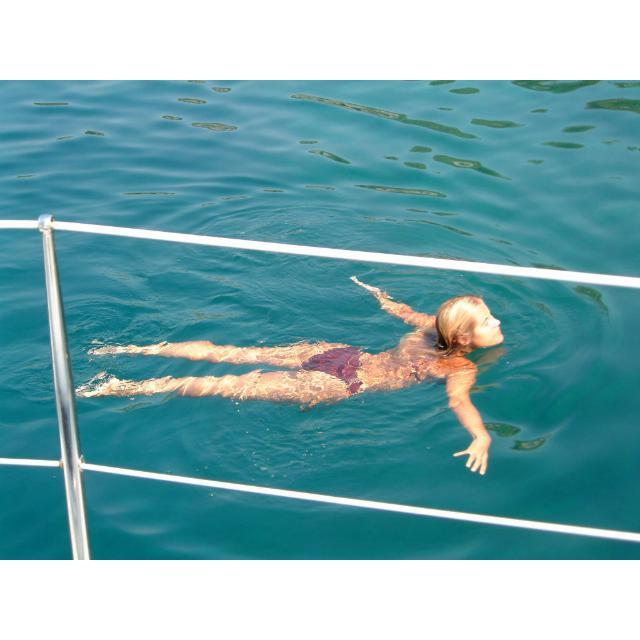human: (72, 278, 508, 480)
